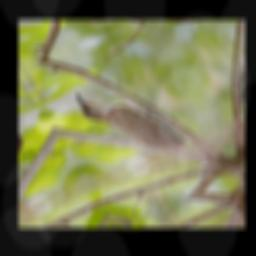Cuckoo: (69, 65, 191, 173)
